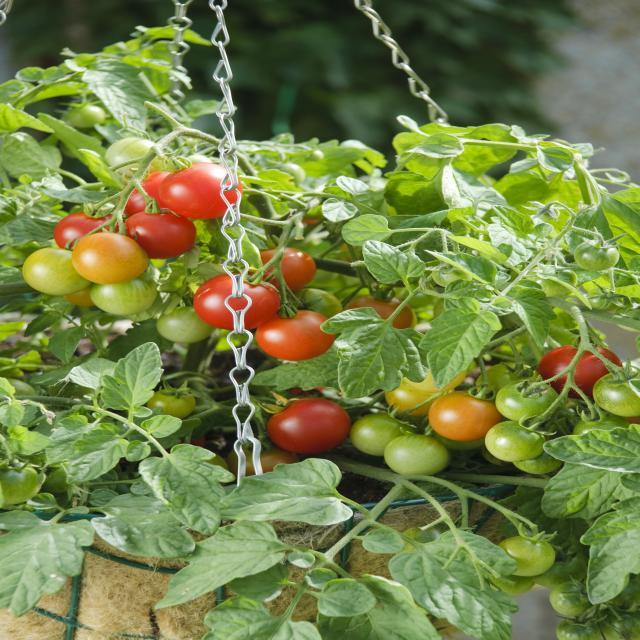tomato: (156, 163, 245, 219), (261, 399, 353, 452), (188, 276, 283, 324), (254, 313, 339, 362), (125, 208, 202, 259)
